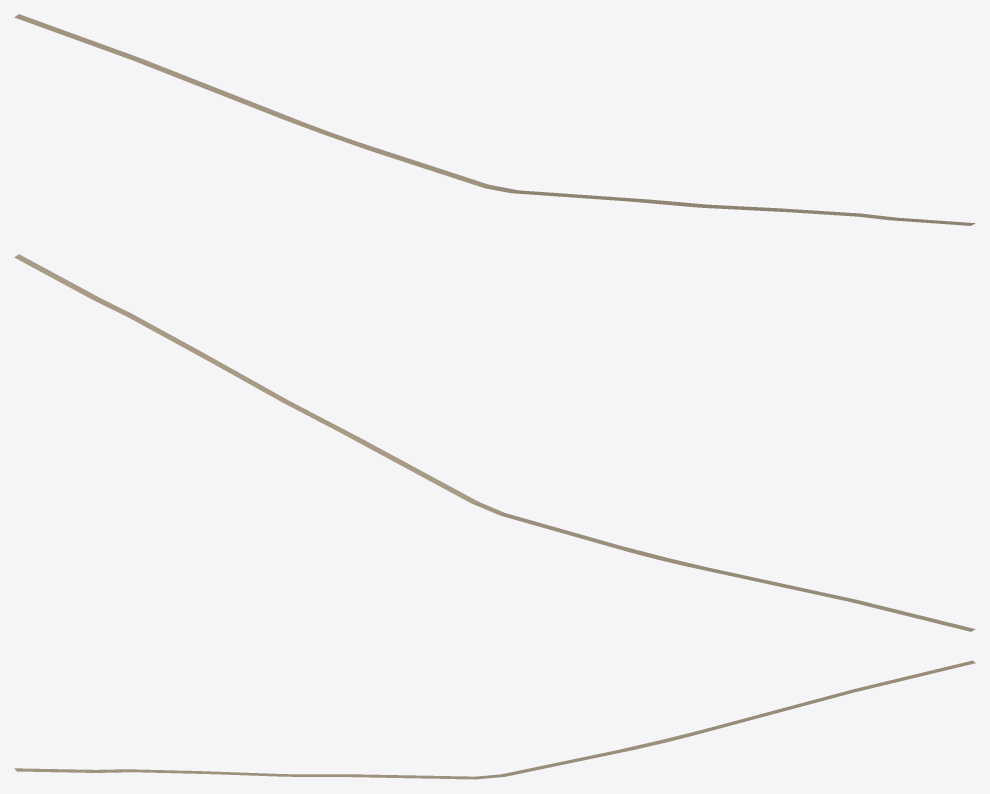
File: farm_-1_6_track.glb
3 renders of one model, top to bottom at view 1: azimuth 30°, elevation 25°; view 2: azimuth 210°, elevation 25°; view 3: azimuth 270°, elevation 25°, orthographic. The views are drawn at different scales.
Parts seen in each view (by area): view 1: geometry_0; view 2: geometry_0; view 3: geometry_0.
Part boxes in pixels (bbox=[...]): geometry_0: bbox=[14, 14, 975, 225]; geometry_0: bbox=[14, 254, 975, 631]; geometry_0: bbox=[14, 660, 975, 779].
Bounding box in the file's own units: 185 × 45.91 × 406.
